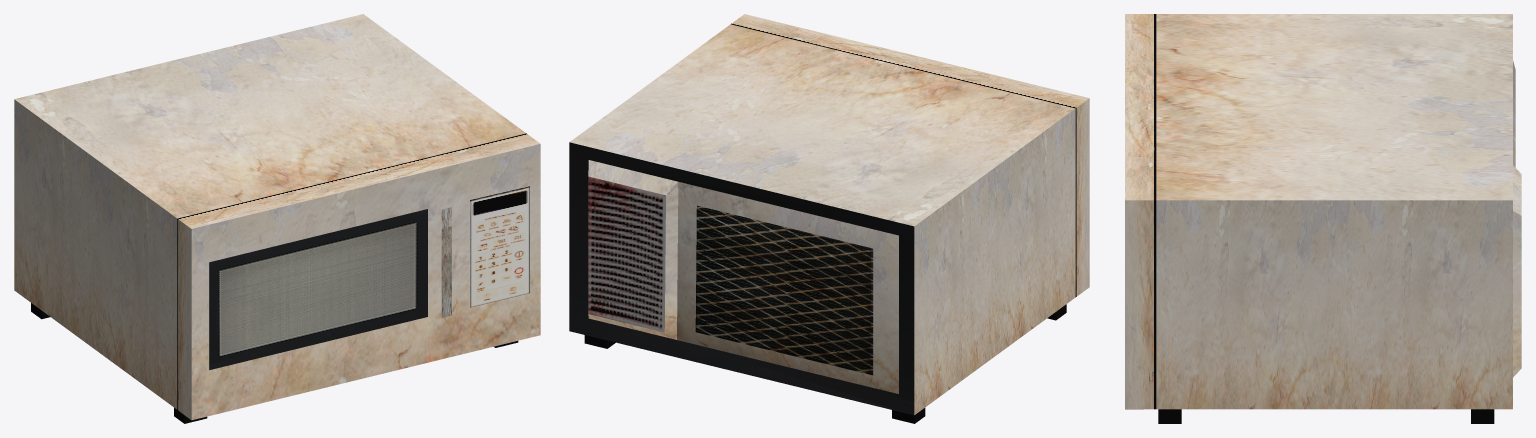
Rendered from M_Home_Garden_microwave.fbx.
The picture shows the model from 3 angles, left to right: view 1: azimuth 30°, elevation 25°; view 2: azimuth 150°, elevation 25°; view 3: azimuth 270°, elevation 25°; orthographic projection. The views are drawn at different scales.
Parts seen in each view (by area): view 1: M_Home_Garden_microwave; view 2: M_Home_Garden_microwave; view 3: M_Home_Garden_microwave.
Part boxes in pixels (x1=…): M_Home_Garden_microwave: x1=14, y1=14, x2=540, y2=423; M_Home_Garden_microwave: x1=569, y1=14, x2=1089, y2=423; M_Home_Garden_microwave: x1=1125, y1=14, x2=1521, y2=423.
Size of the model in its own units: 54.19 by 30.86 by 49.61.
